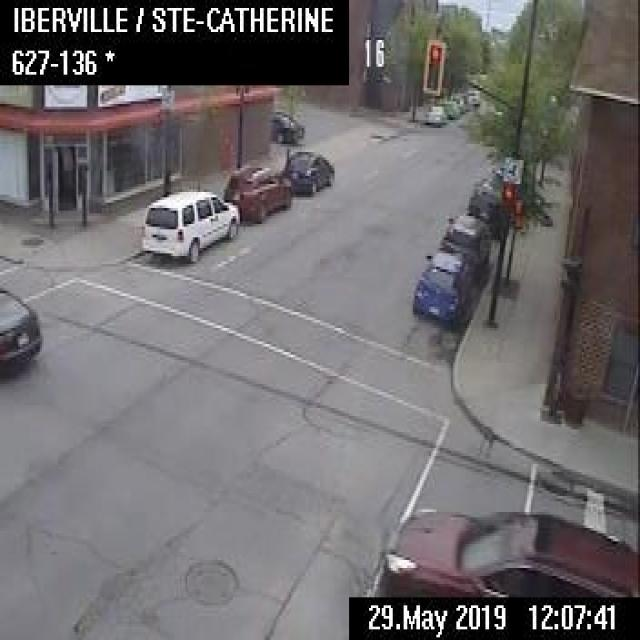vehicle: (380, 504, 638, 595), (140, 188, 238, 258), (410, 247, 473, 324), (0, 285, 44, 384), (222, 164, 290, 221), (438, 212, 492, 283), (282, 148, 334, 192), (467, 176, 502, 226), (270, 108, 304, 142), (424, 103, 446, 123), (448, 90, 468, 112), (440, 98, 459, 119), (464, 88, 478, 103)
